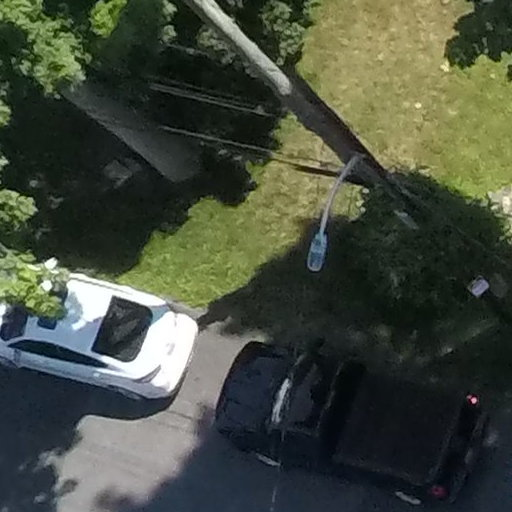car: (220, 317, 492, 512), (1, 253, 201, 424)
